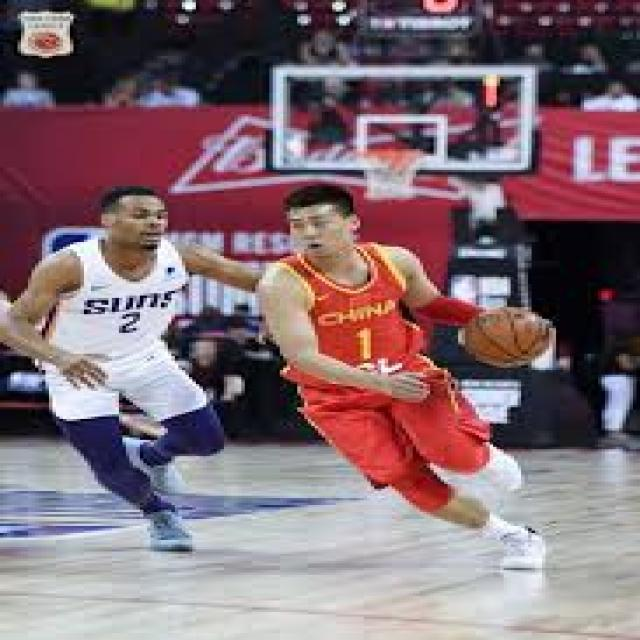rim: (465, 308, 553, 366)
